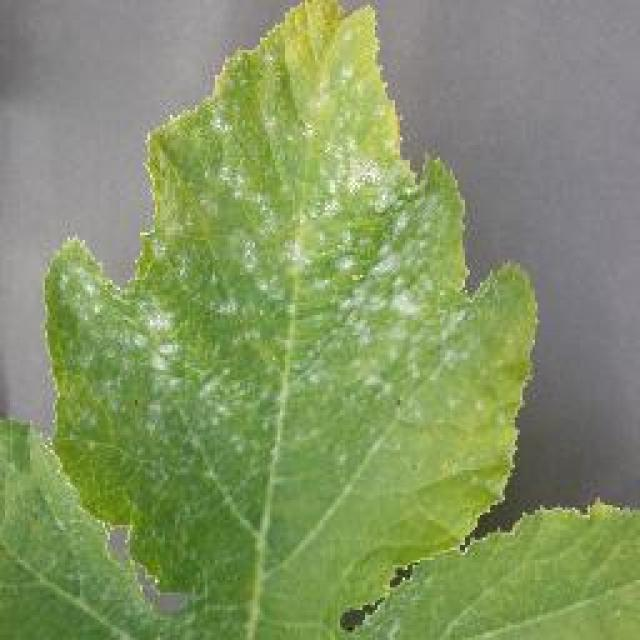Squ_Powdery_mildew: (115, 100, 468, 503)
